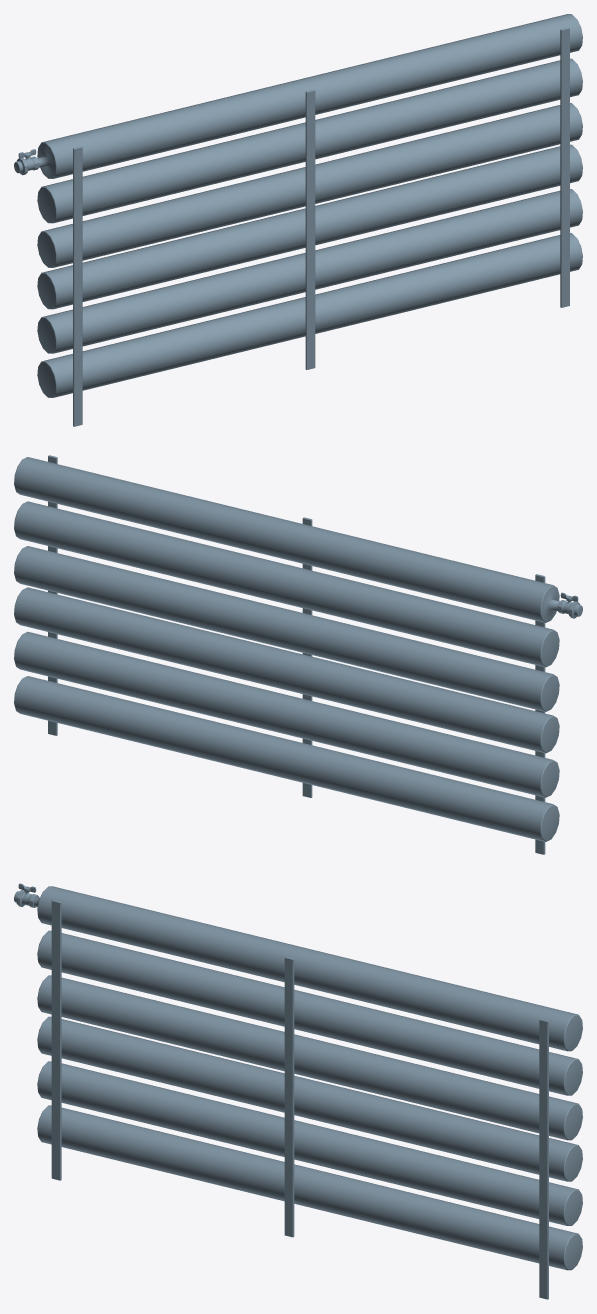
File: battery.fbx
3 views of the same model, one above another, from view 1: azimuth 30°, elevation 25°; view 2: azimuth 150°, elevation 25°; view 3: azimuth 330°, elevation 25° (orthographic).
Visible parts, largest first — view 1: polySurface68; view 2: polySurface68; view 3: polySurface68.
Part boxes in pixels (bbox=[...]): polySurface68: bbox=[14, 14, 582, 426]; polySurface68: bbox=[14, 455, 582, 854]; polySurface68: bbox=[14, 883, 582, 1299].
Bounding box in the file's own units: 211 × 101 × 13.67.
